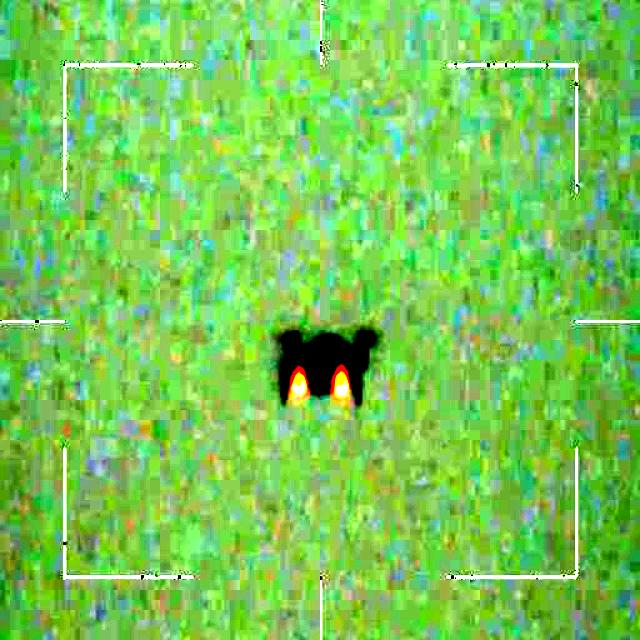bird: (272, 326, 380, 409)
